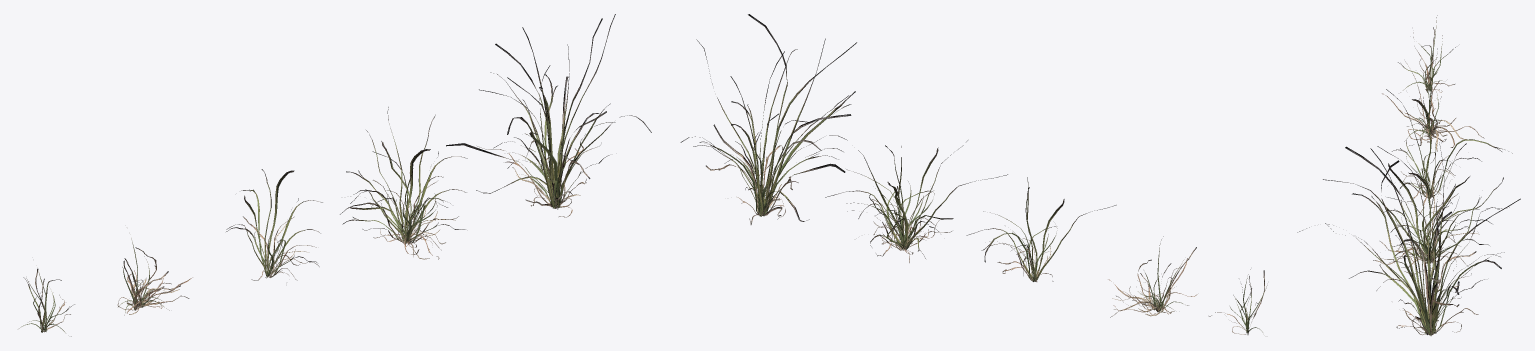
The model's file is grass_medium_02.gltf.
3 renders of one model, left to right at view 1: azimuth 30°, elevation 25°; view 2: azimuth 150°, elevation 25°; view 3: azimuth 270°, elevation 25°, orthographic. The views are drawn at different scales.
Visible parts, largest first — view 1: grass_medium_02_e, grass_medium_02_d, grass_medium_02_c, grass_medium_02_b, grass_medium_02_a; view 2: grass_medium_02_e, grass_medium_02_d, grass_medium_02_c, grass_medium_02_b, grass_medium_02_a; view 3: grass_medium_02_e, grass_medium_02_d, grass_medium_02_c, grass_medium_02_b, grass_medium_02_a.
Boxes of the visible parts, left/top/right/bottom form: grass_medium_02_e: left=446, top=14, right=651, bottom=217; grass_medium_02_d: left=340, top=107, right=467, bottom=259; grass_medium_02_c: left=226, top=169, right=322, bottom=280; grass_medium_02_b: left=117, top=238, right=192, bottom=315; grass_medium_02_a: left=19, top=268, right=74, bottom=336; grass_medium_02_e: left=680, top=14, right=856, bottom=224; grass_medium_02_d: left=825, top=140, right=1007, bottom=262; grass_medium_02_c: left=966, top=177, right=1116, bottom=281; grass_medium_02_b: left=1108, top=236, right=1197, bottom=317; grass_medium_02_a: left=1209, top=269, right=1267, bottom=334; grass_medium_02_e: left=1297, top=142, right=1520, bottom=335; grass_medium_02_d: left=1323, top=143, right=1509, bottom=274; grass_medium_02_c: left=1386, top=89, right=1512, bottom=215; grass_medium_02_b: left=1382, top=48, right=1484, bottom=151; grass_medium_02_a: left=1398, top=15, right=1455, bottom=92.
Bounding box in the file's own units: 1.31 × 0.4053 × 0.4332.
1 material, 1 textured.
